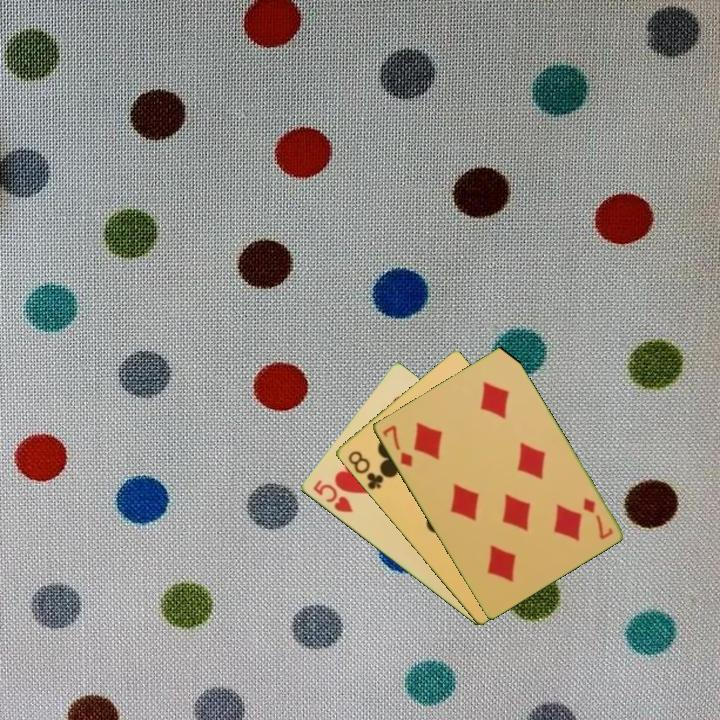5h: (309, 476, 356, 516)
7d: (378, 421, 415, 470), (579, 494, 616, 542)
8c: (344, 447, 386, 493)
